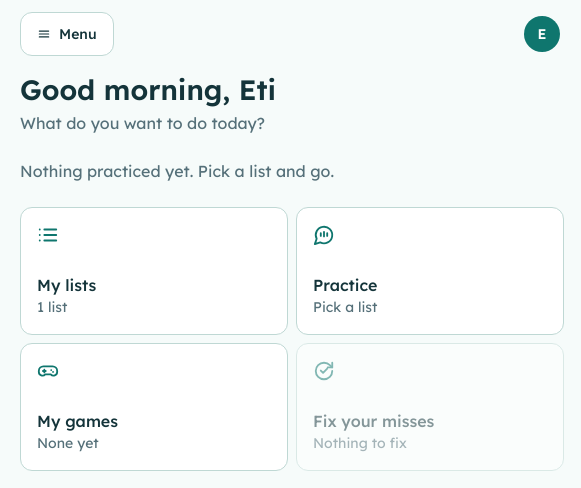
a shared list on My lists › shows it as shared, with Members and Leave rather than Delete for a member
Click the button "Menu" at (67, 34), box 20,12 -> 114,56
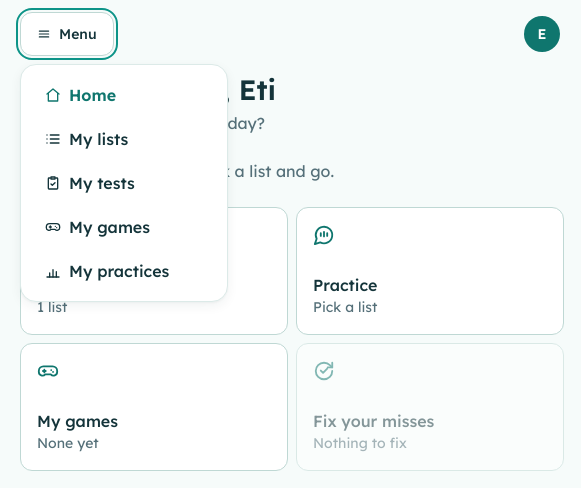
Click the menu item "My lists" at (124, 139), box 29,117 -> 219,161
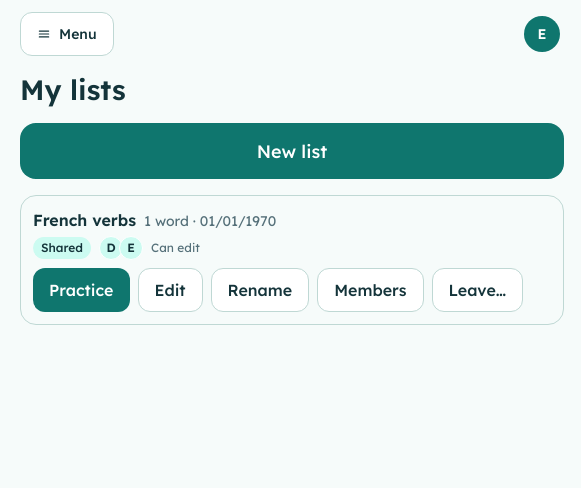
Check: the text "Shared" is shown, box 33,237 -> 91,259
Check: the button "Members" is shown, box 317,268 -> 424,312
Check: the button "Leave…" is shown, box 432,268 -> 523,312
